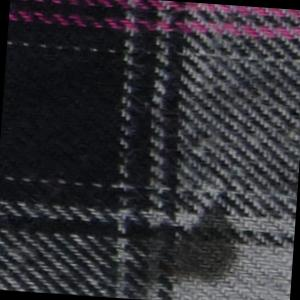Stain: (74, 184, 250, 300)
